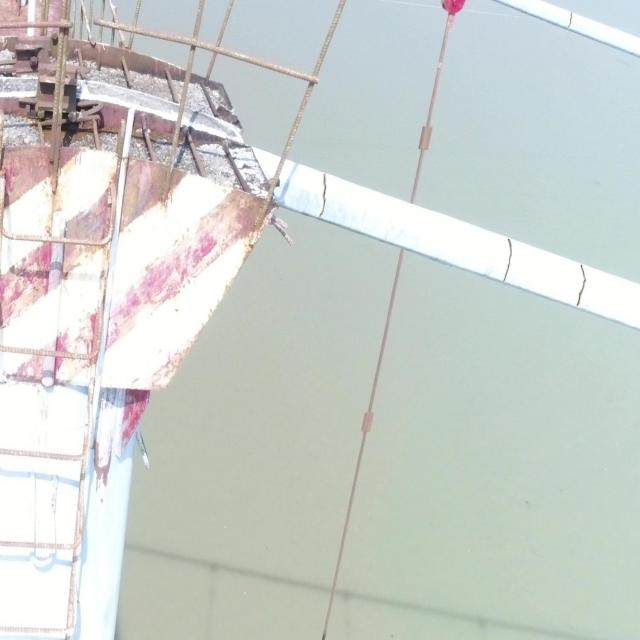crack: (318, 173, 328, 218), (576, 264, 586, 306), (503, 239, 512, 282), (568, 11, 572, 28)
